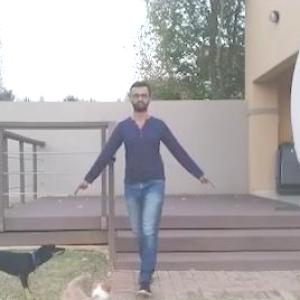land: (100, 95, 192, 267)
